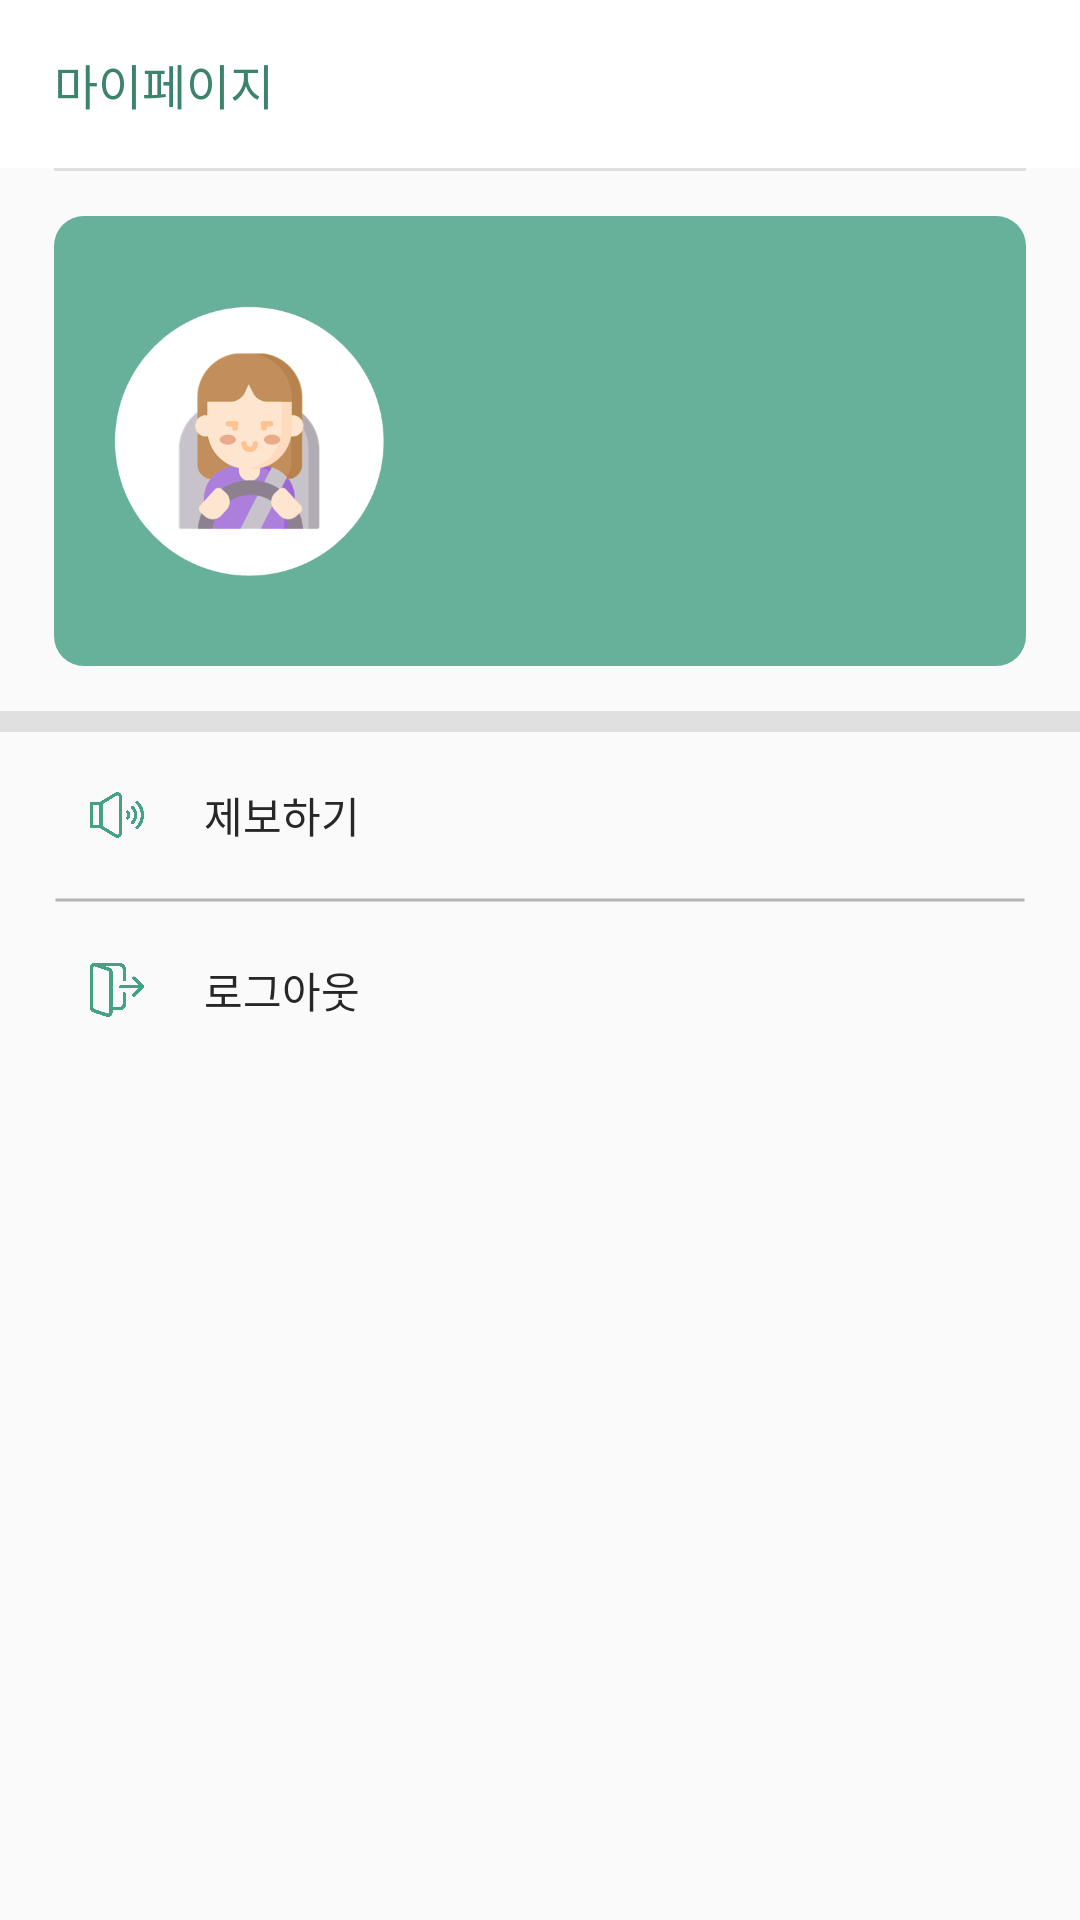

Where icons sit on this 1080×1920 app screen, as (x1, y1, x2, y2):
woman: (115, 307, 384, 576)
